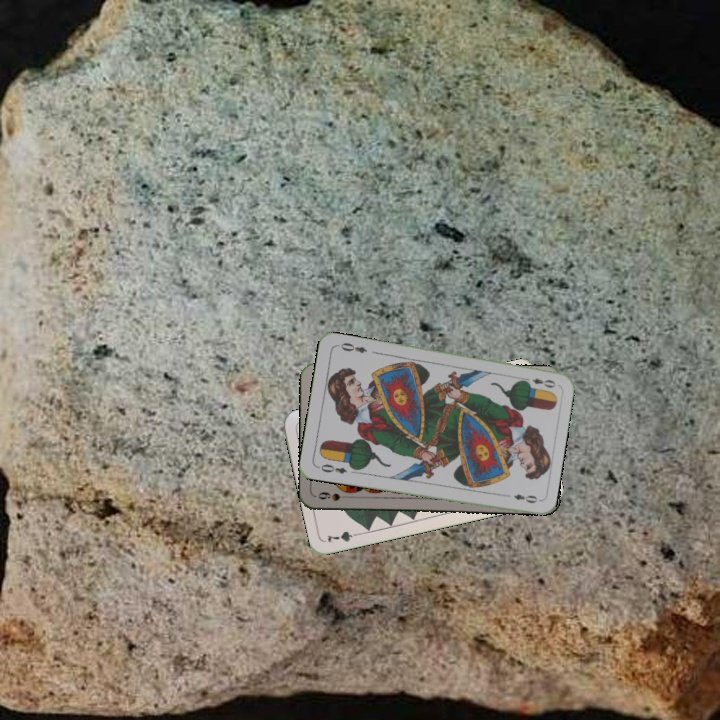EO: (518, 374, 558, 390), (313, 460, 349, 477)
G7: (323, 527, 364, 545)
S9: (315, 488, 345, 503)
